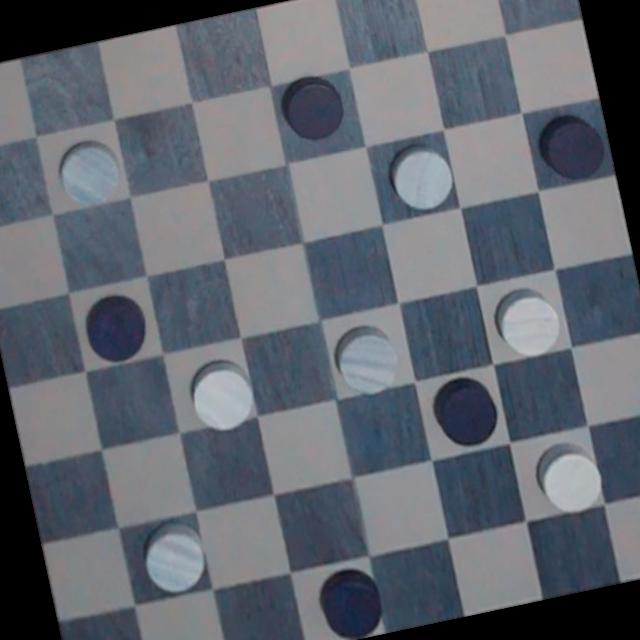BOARD: (0, 0, 640, 640)
black: (268, 57, 359, 157), (424, 365, 506, 460), (69, 284, 159, 368), (532, 102, 616, 190), (312, 558, 393, 640)
white: (178, 346, 267, 446), (322, 312, 412, 406), (130, 506, 213, 602), (488, 274, 572, 364), (382, 130, 463, 222), (525, 434, 609, 518), (49, 132, 127, 214)
